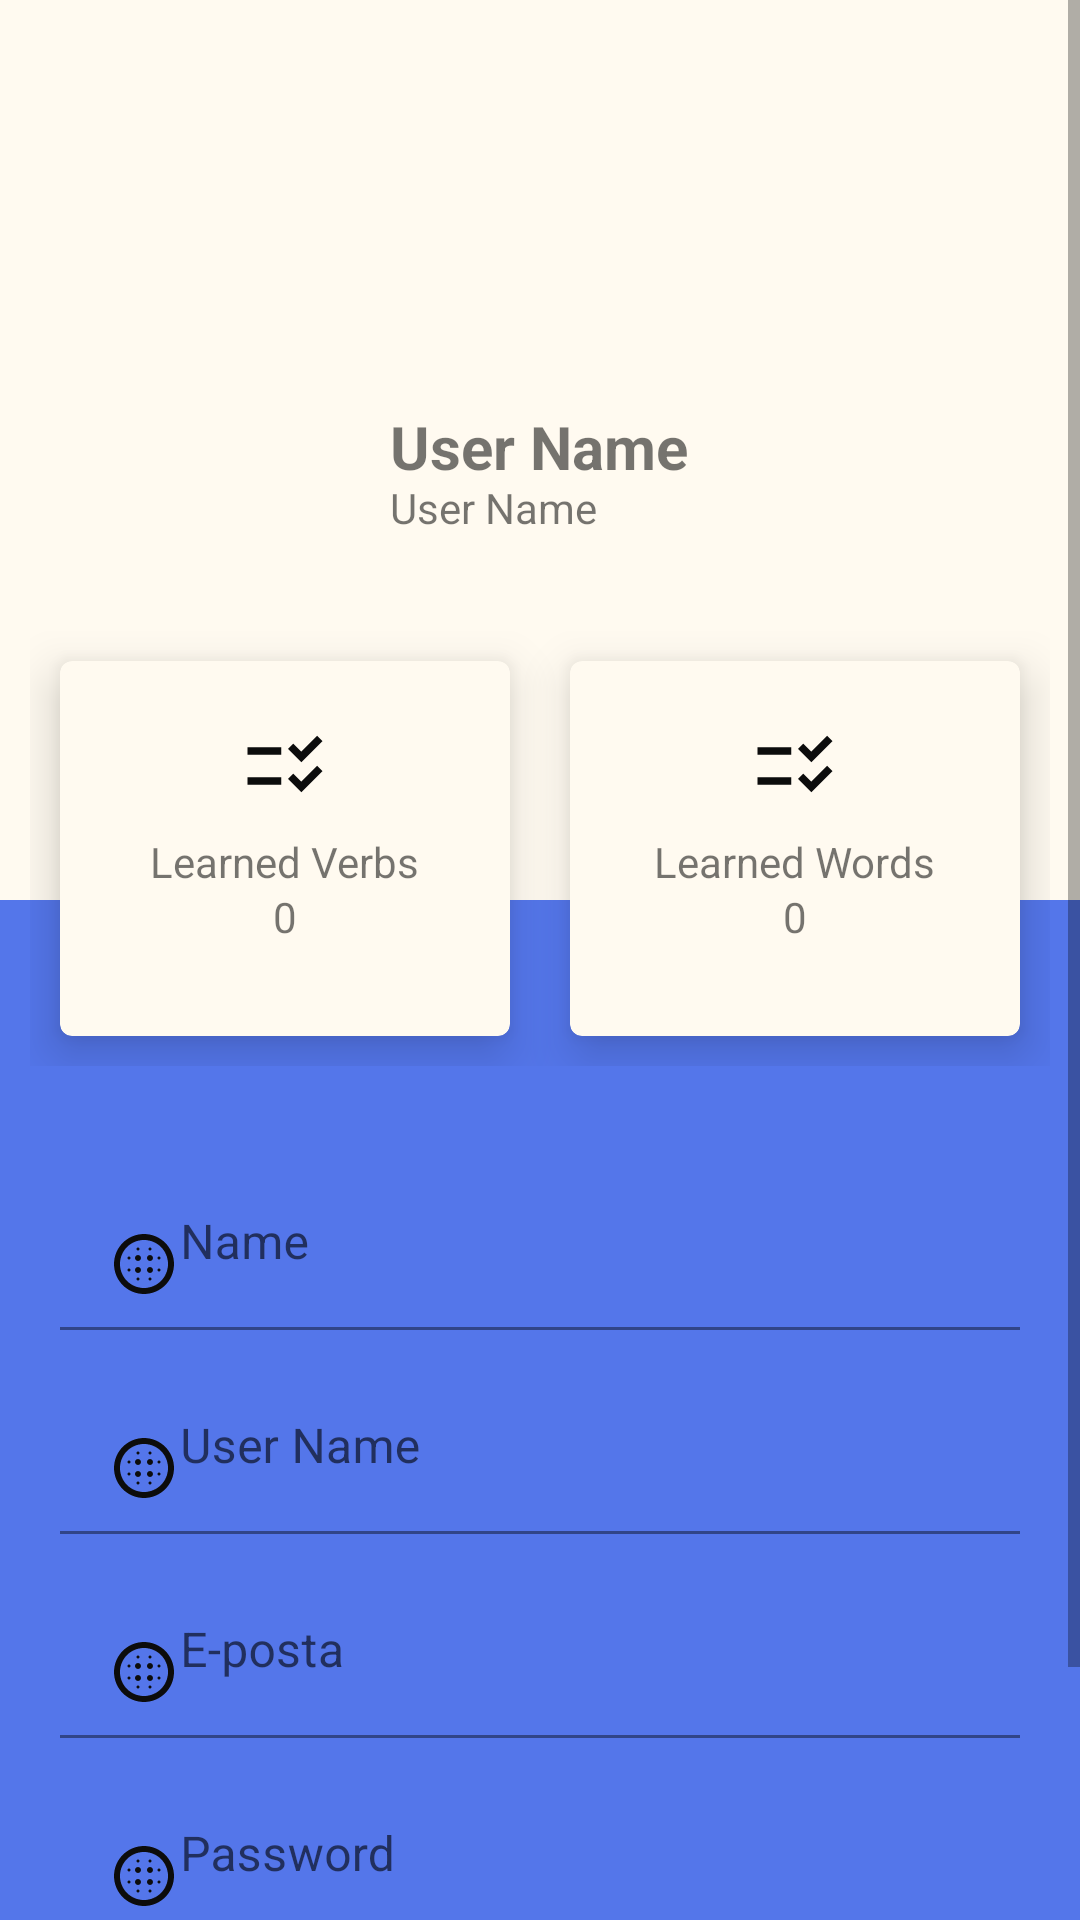

Screen size 1080×1920. Icon name, then its center in pixels as point (x, y):
checklist rt: point (285, 764), point (795, 764)
